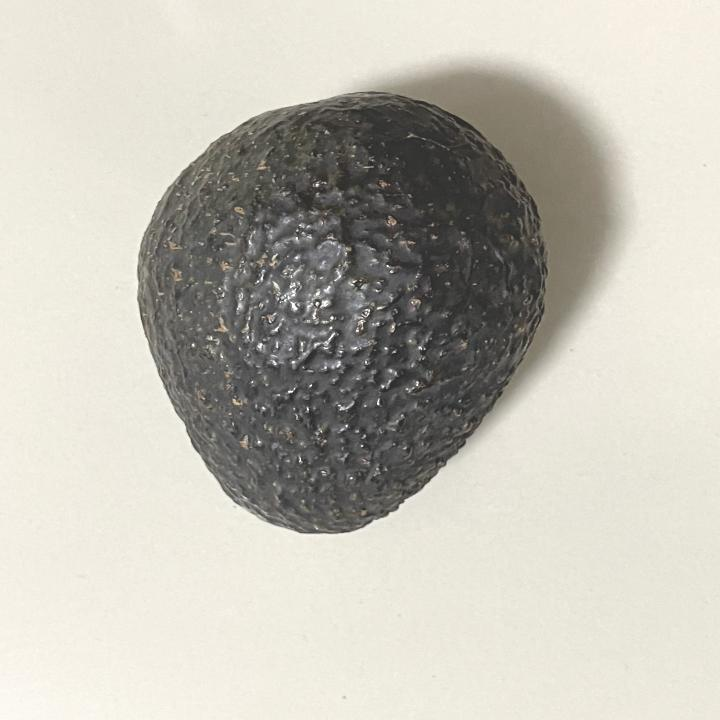Level2: (127, 88, 553, 542)
